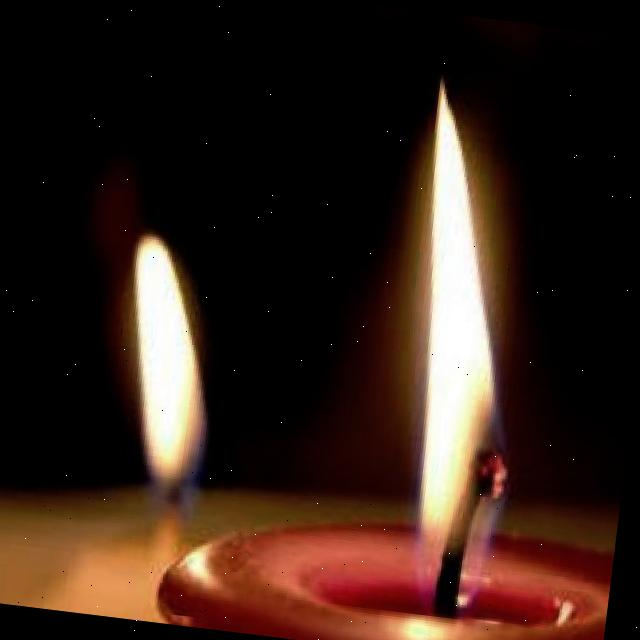fire: (376, 80, 552, 608), (106, 232, 230, 487)
